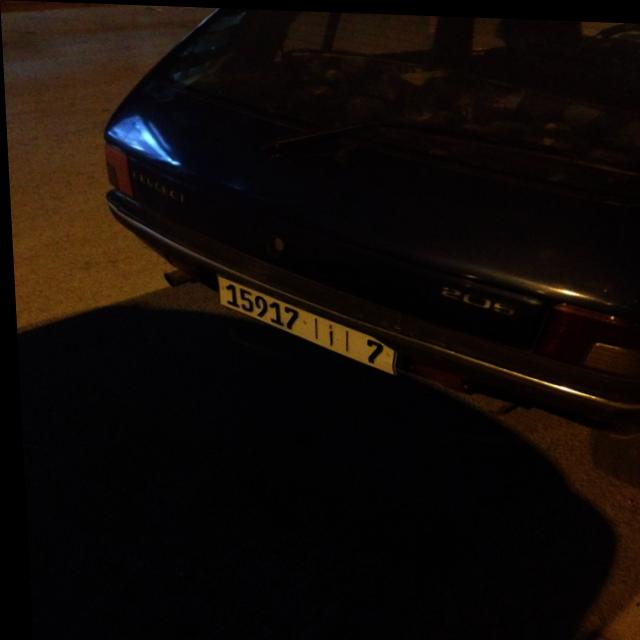License-Plate: (214, 275, 392, 371)
